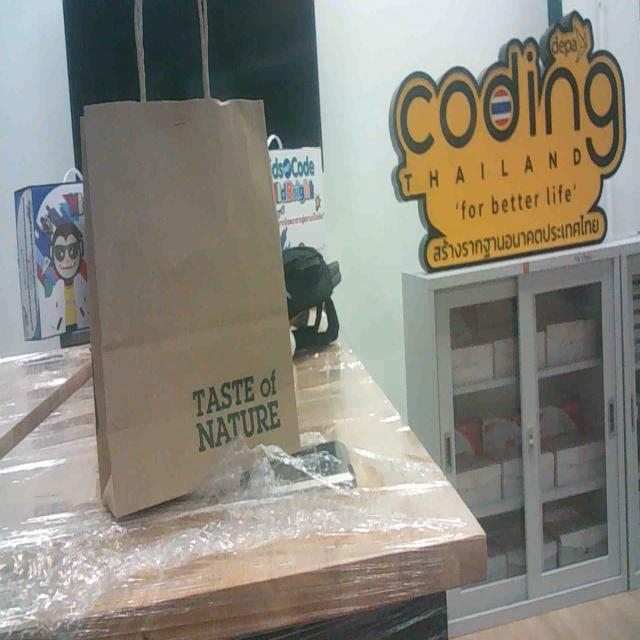bag: (74, 76, 314, 526)
